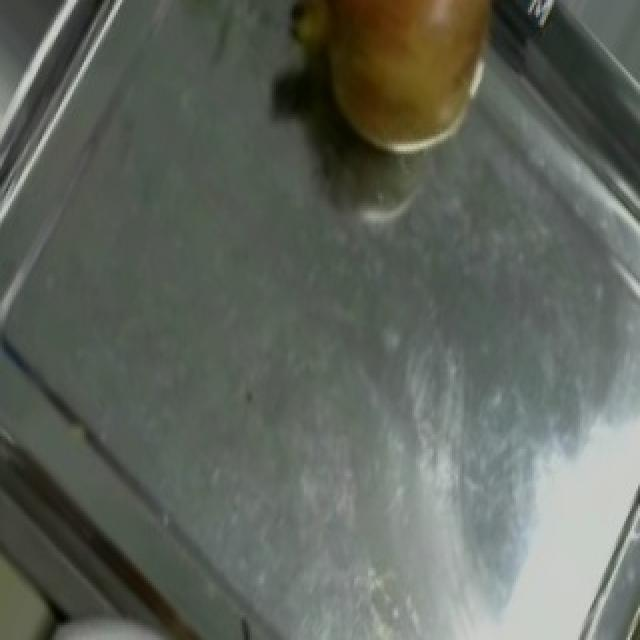fruit: (280, 0, 518, 181)
